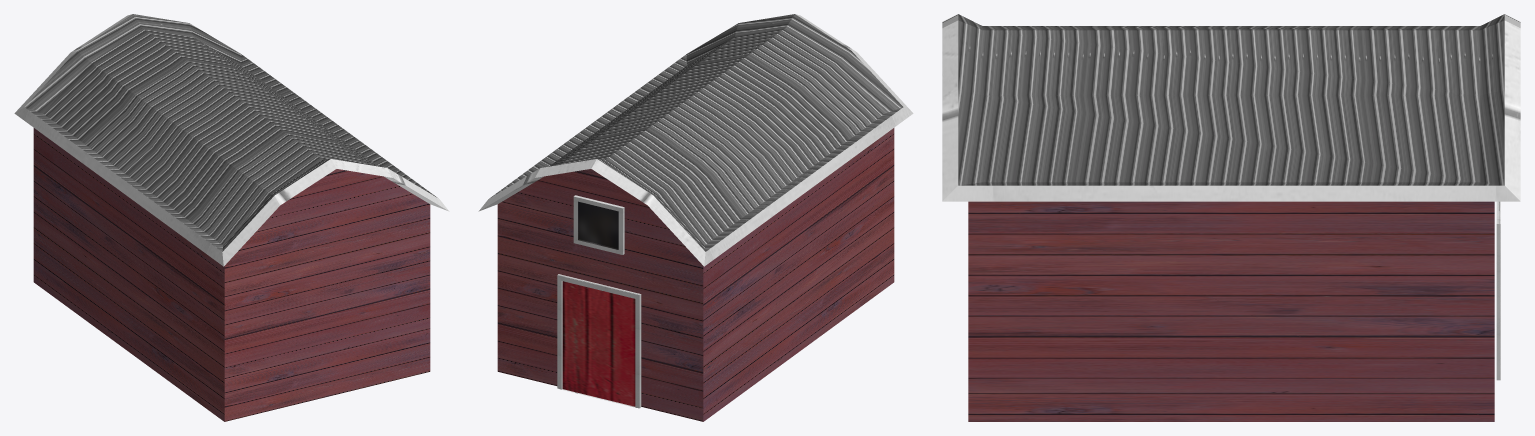
File: SM_Barn_01.fbx
3 renders of one model, left to right at view 1: azimuth 30°, elevation 25°; view 2: azimuth 150°, elevation 25°; view 3: azimuth 270°, elevation 25°, orthographic. The views are drawn at different scales.
Parts seen in each view (by area): view 1: Cube; view 2: Cube, Cube.001, Cube.002; view 3: Cube, Cube.001.
Boxes of the visible parts, left/top/right/bottom form: Cube: left=14, top=14, right=449, bottom=421; Cube: left=478, top=14, right=913, bottom=421; Cube.001: left=557, top=274, right=641, bottom=408; Cube.002: left=573, top=195, right=624, bottom=254; Cube: left=942, top=14, right=1520, bottom=421; Cube.001: left=1496, top=201, right=1500, bottom=380.
Bounding box in the file's own units: 547 × 558 × 878.
